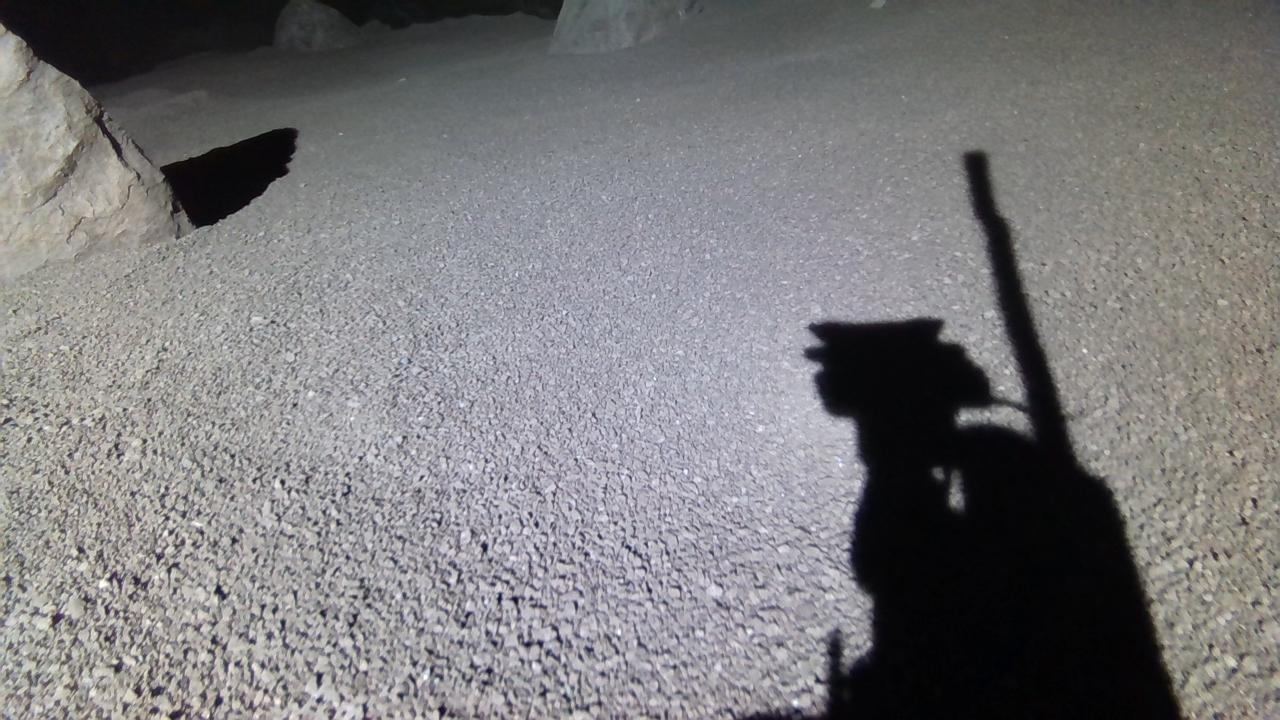rock: (549, 0, 702, 53), (272, 0, 361, 50)
